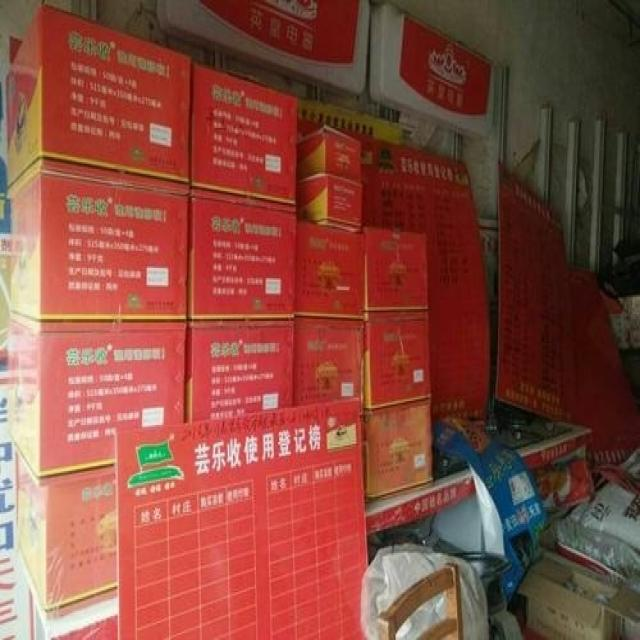box: (5, 2, 192, 186), (6, 155, 189, 321), (8, 311, 187, 476), (15, 447, 116, 621), (189, 60, 297, 205), (187, 183, 296, 321), (186, 319, 294, 425), (517, 555, 640, 640), (360, 398, 433, 503), (294, 215, 365, 321), (294, 317, 365, 416), (364, 311, 431, 410), (362, 227, 428, 312), (294, 172, 362, 232), (294, 125, 361, 183)
